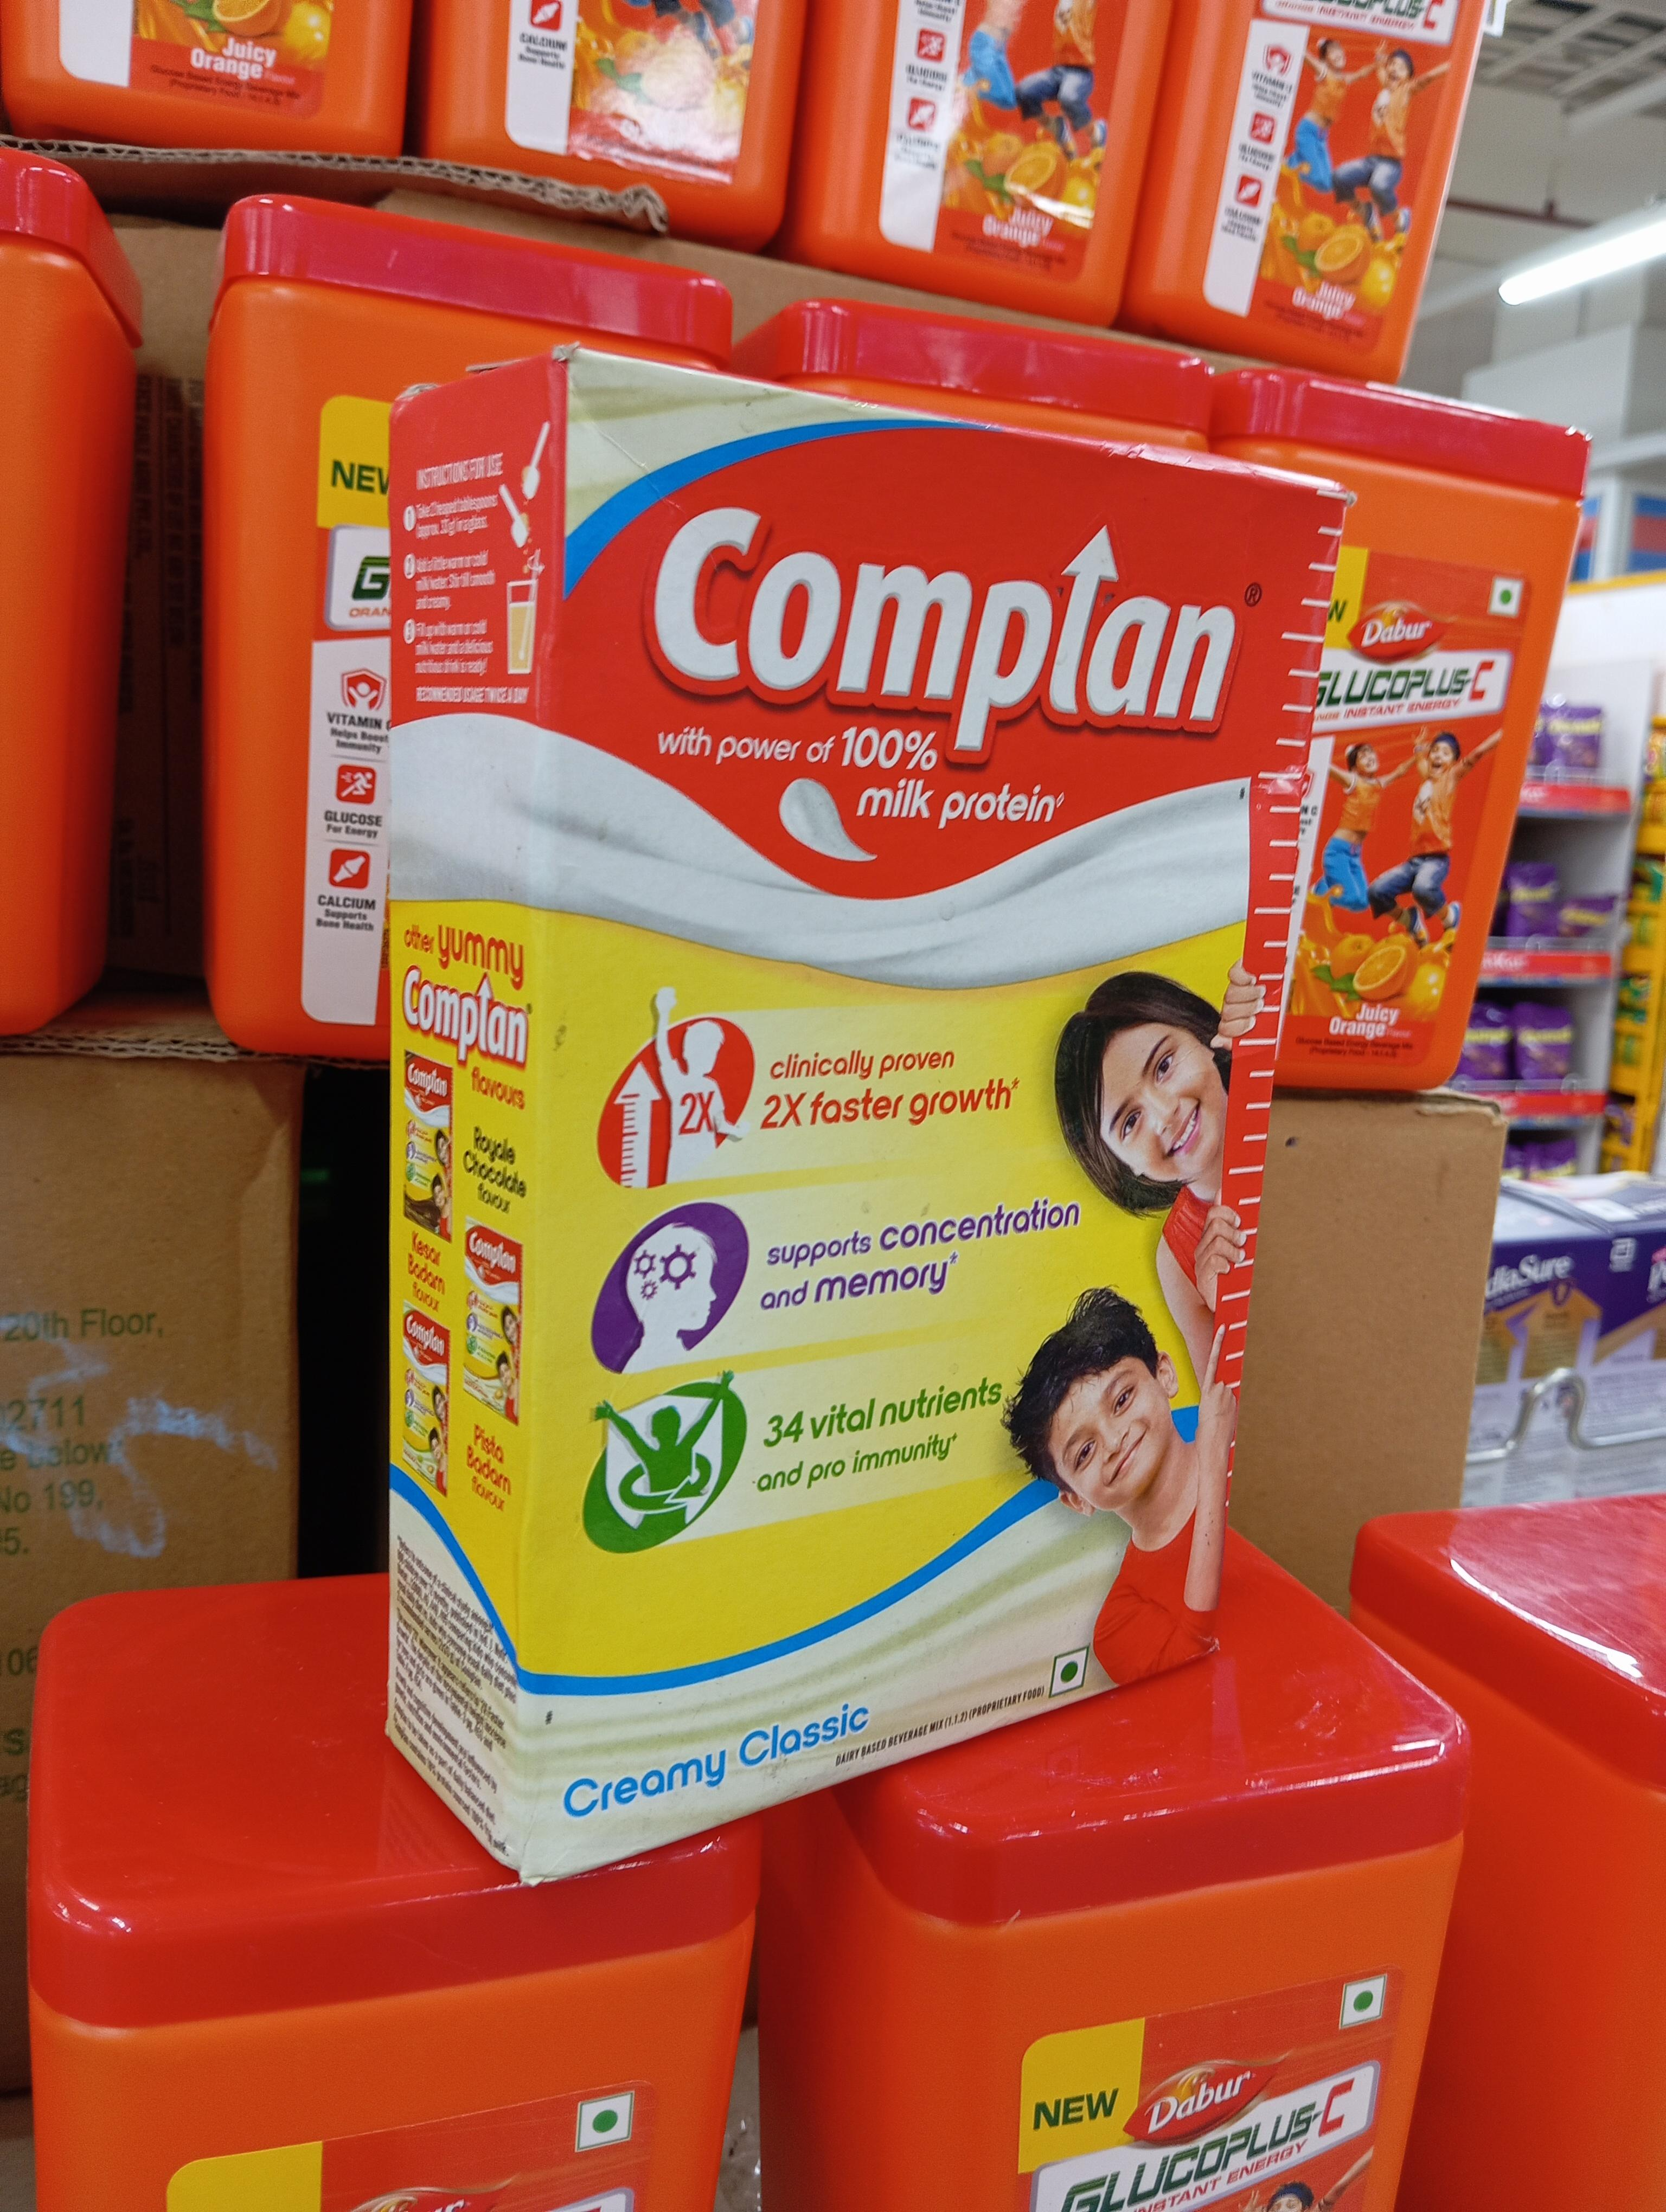COMPLAN_CREAMY_CLASSIC_500_G_PACK: (542, 325, 1263, 1789)
